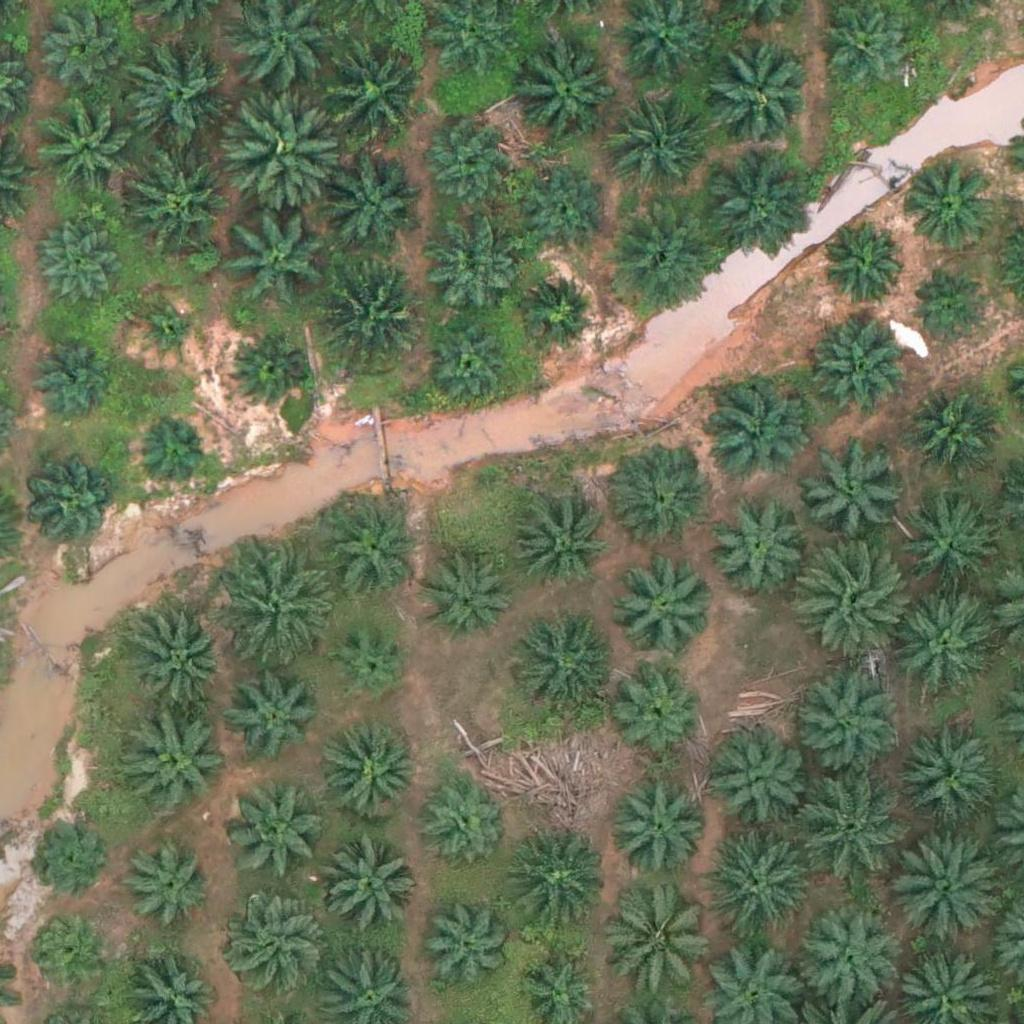Kelapa_Sawit: (219, 552, 332, 666), (233, 93, 346, 206), (507, 28, 620, 141), (606, 208, 719, 321), (695, 29, 808, 142), (697, 823, 810, 936), (126, 37, 238, 150), (125, 139, 237, 252), (228, 202, 340, 315), (321, 33, 433, 146), (319, 254, 431, 367), (600, 89, 712, 202), (699, 152, 811, 265), (892, 828, 1004, 941), (796, 773, 908, 886), (790, 663, 902, 776), (797, 543, 909, 656), (606, 886, 718, 999), (37, 96, 137, 197), (321, 156, 421, 257), (324, 500, 424, 601), (419, 223, 519, 324), (804, 439, 904, 540), (702, 378, 802, 479), (610, 443, 710, 544), (510, 492, 610, 593), (892, 593, 992, 694), (896, 726, 996, 827), (800, 909, 900, 1010), (707, 730, 807, 831), (612, 778, 712, 879), (615, 553, 715, 654), (511, 613, 611, 714), (224, 894, 324, 995), (116, 835, 216, 936), (807, 325, 907, 425), (706, 494, 806, 594), (902, 500, 1002, 600), (506, 832, 606, 932), (320, 721, 420, 821), (320, 834, 420, 934), (228, 779, 328, 879), (132, 609, 232, 709), (123, 715, 223, 815), (43, 4, 131, 92), (35, 224, 123, 312), (32, 463, 120, 551), (515, 268, 603, 356), (26, 912, 114, 1000), (425, 555, 513, 643), (30, 330, 117, 418), (426, 119, 513, 207), (428, 323, 515, 411), (521, 164, 608, 252), (907, 390, 994, 478), (902, 159, 989, 247), (820, 222, 907, 310), (615, 665, 702, 753), (422, 899, 509, 987), (419, 776, 506, 864), (229, 676, 316, 764), (28, 813, 115, 901), (230, 331, 305, 407), (333, 625, 408, 701), (136, 414, 211, 489), (915, 275, 990, 350), (137, 303, 200, 366)
